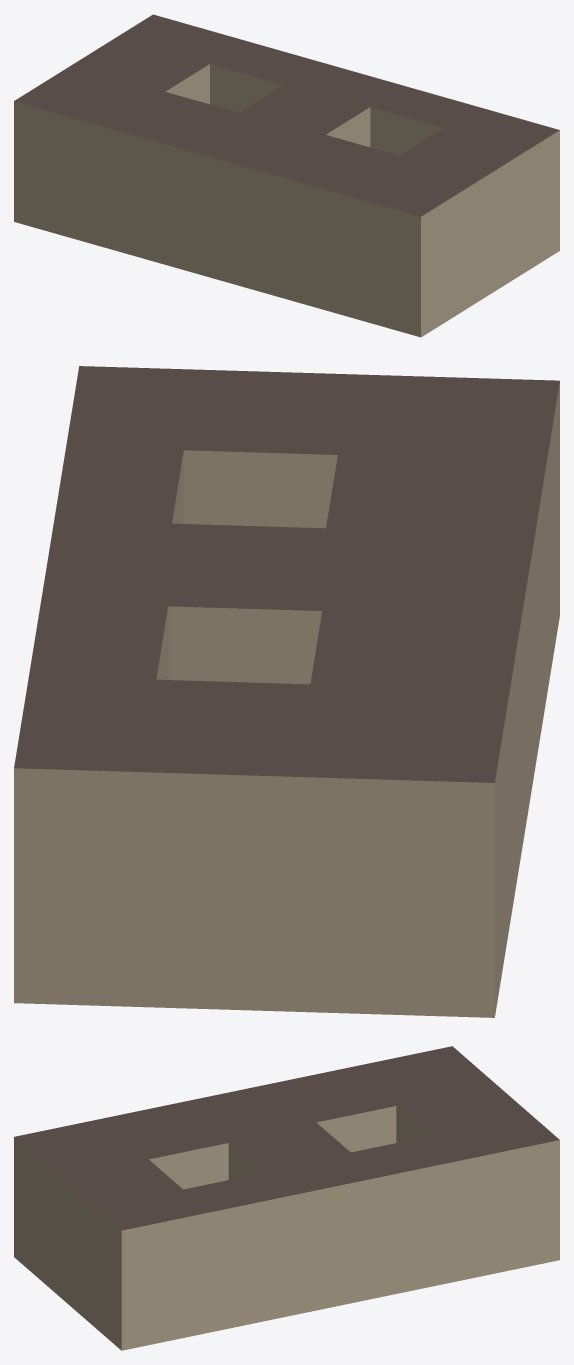
3 views of the same model, one above another, from view 1: azimuth 30°, elevation 25°; view 2: azimuth 150°, elevation 25°; view 3: azimuth 270°, elevation 25° (orthographic). The views are drawn at different scales.
Visible parts, largest first — view 1: HP-r11759093; view 2: HP-r11759093; view 3: HP-r11759093.
Part boxes in pixels (x1,y1,x2,y2): HP-r11759093: (14, 14, 559, 337); HP-r11759093: (14, 366, 559, 1017); HP-r11759093: (14, 1046, 559, 1350).
Size of the model in its own units: 29.62 by 9 by 37.05.
